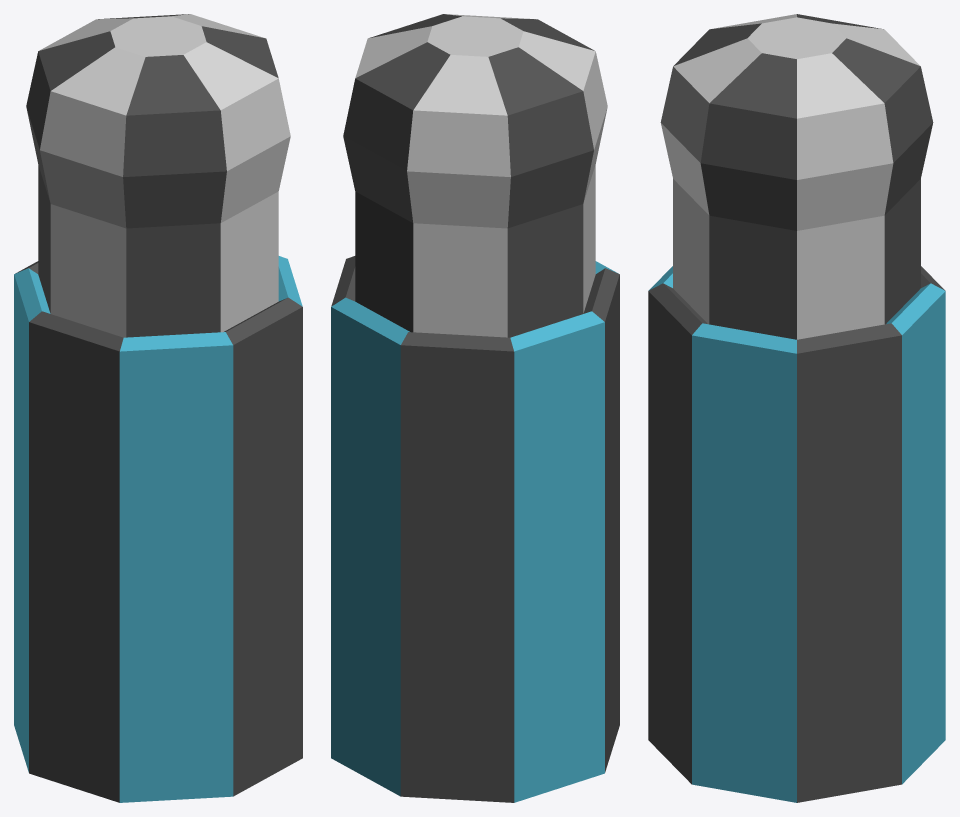
File: Drink Bottle.fbx
3 views of the same model, side by side, from view 1: azimuth 30°, elevation 25°; view 2: azimuth 150°, elevation 25°; view 3: azimuth 270°, elevation 25° (orthographic).
Parts seen in each view (by area): view 1: Drink Bottle, Drink Bottle Lid; view 2: Drink Bottle, Drink Bottle Lid; view 3: Drink Bottle, Drink Bottle Lid.
Part boxes in pixels (x1,y1,x2,y2): Drink Bottle: (14, 256, 302, 802); Drink Bottle Lid: (26, 14, 290, 337); Drink Bottle: (331, 256, 619, 802); Drink Bottle Lid: (343, 14, 607, 337); Drink Bottle: (648, 266, 945, 802); Drink Bottle Lid: (660, 14, 933, 339).
Bounding box in the file's own units: 38.4 × 100 × 38.4.
